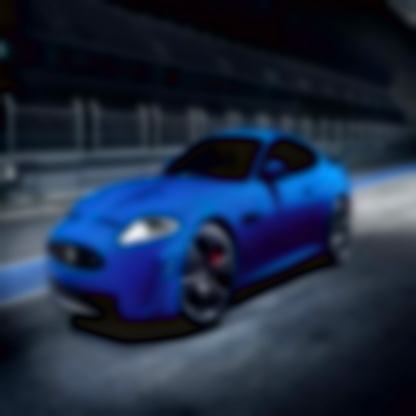Vehicle: (30, 110, 366, 364)
